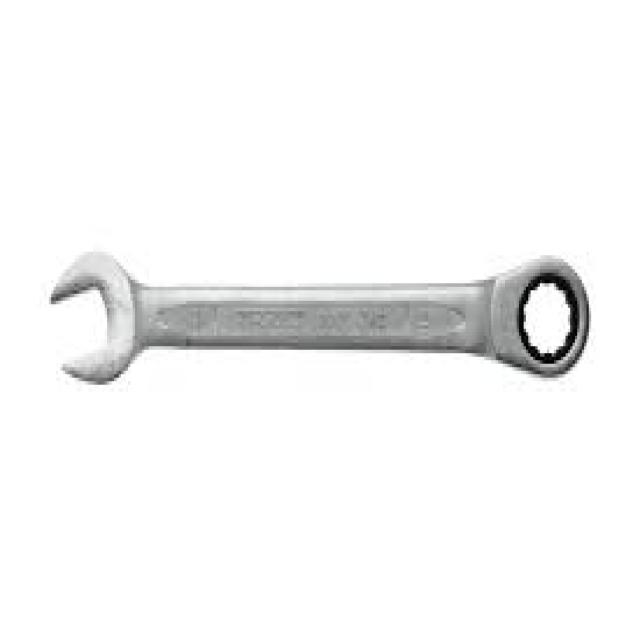Wrench: (42, 246, 592, 394)
